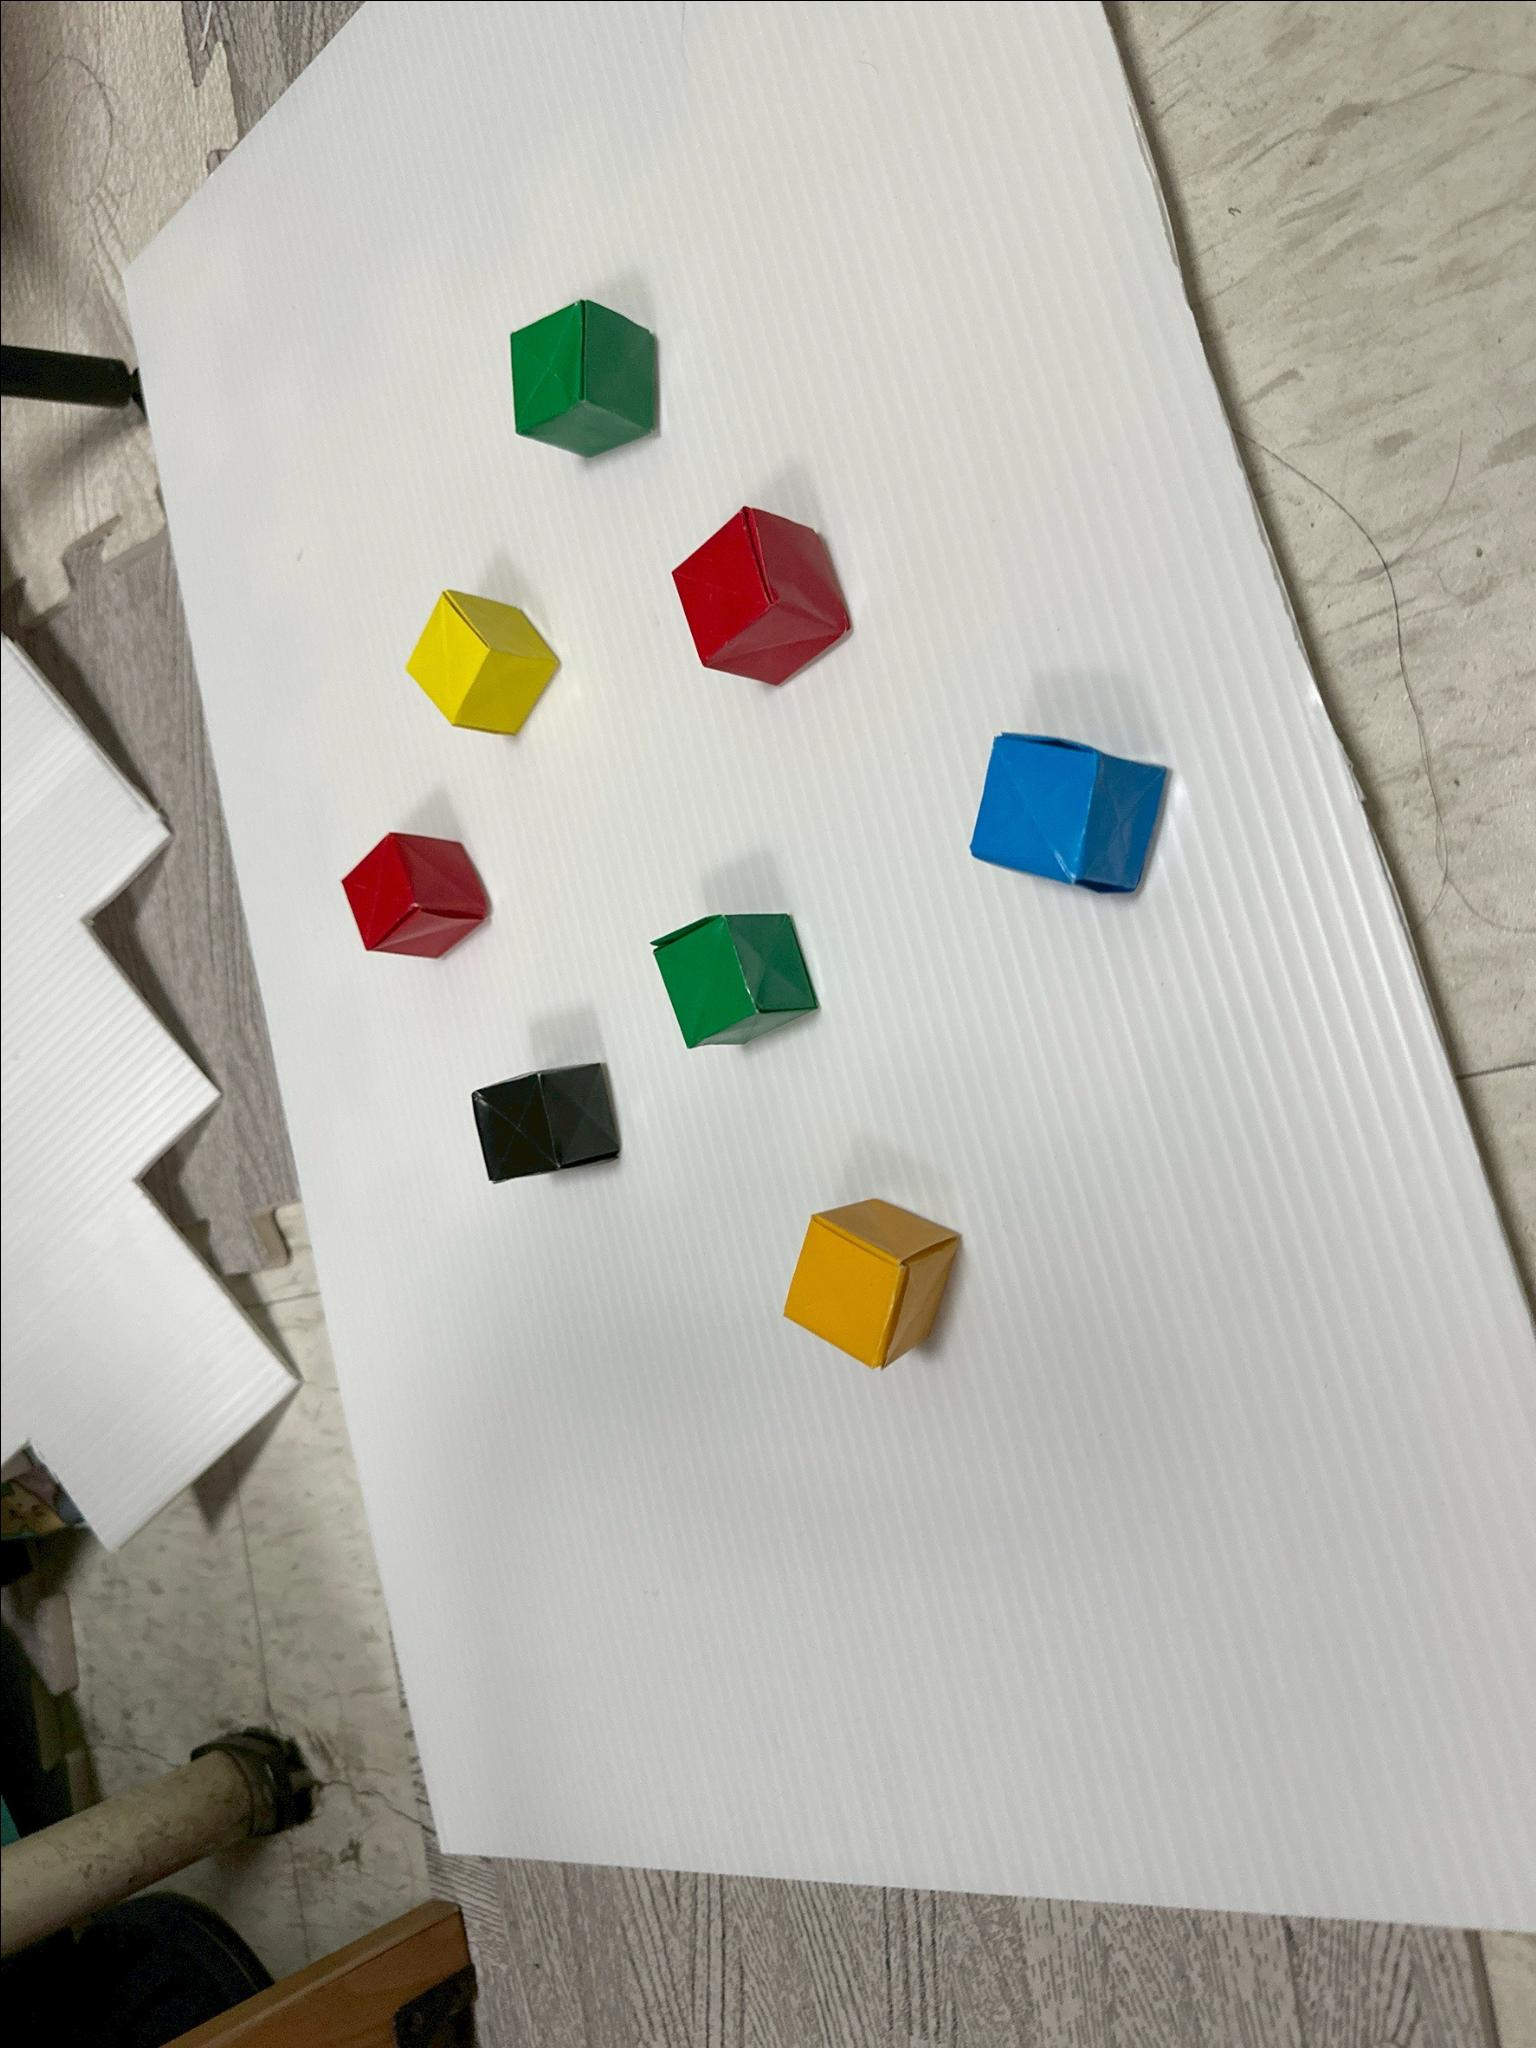cube: (970, 732, 1168, 893), (671, 508, 849, 685), (784, 1200, 960, 1367), (511, 300, 657, 456), (405, 592, 557, 735), (653, 914, 816, 1047), (342, 834, 487, 958), (471, 1063, 620, 1180)
